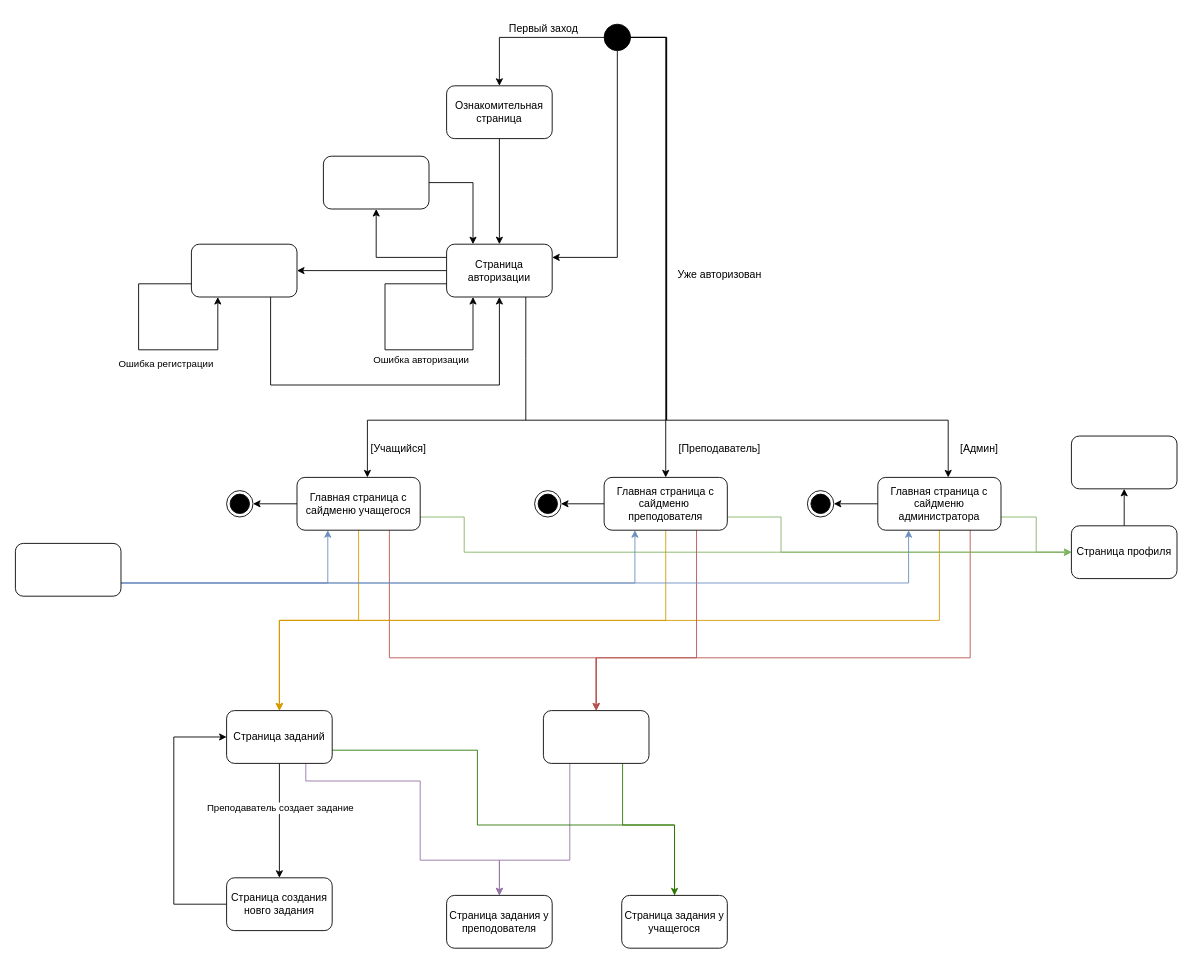
The diagram is 1192 pixels wide and 971 high, and some of its shapes have lost their labels. Here are the shapes that lost their labels. From the top down, the box of each, then its label:
(323, 155, 429, 209): Страница восстановления пароля
(191, 243, 297, 297): Страница регистрации
(1071, 435, 1177, 489): Настройки профиля
(15, 543, 121, 596): Страница настроек
(543, 710, 649, 763): Страница календаря
